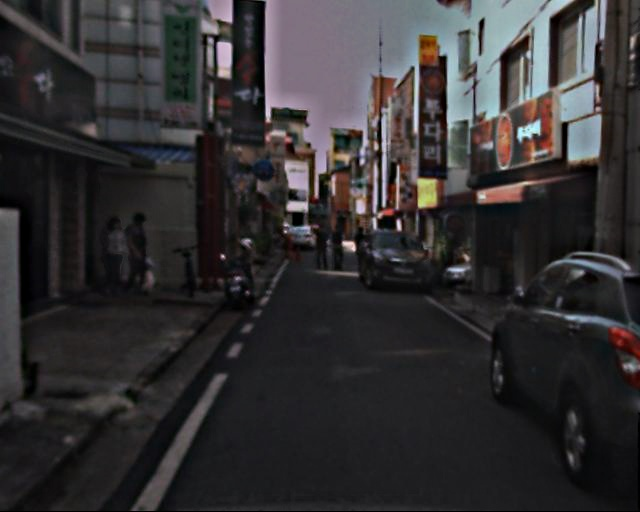person: (101, 211, 139, 297), (126, 212, 160, 295), (314, 225, 333, 271), (331, 227, 349, 271), (353, 228, 371, 272)
